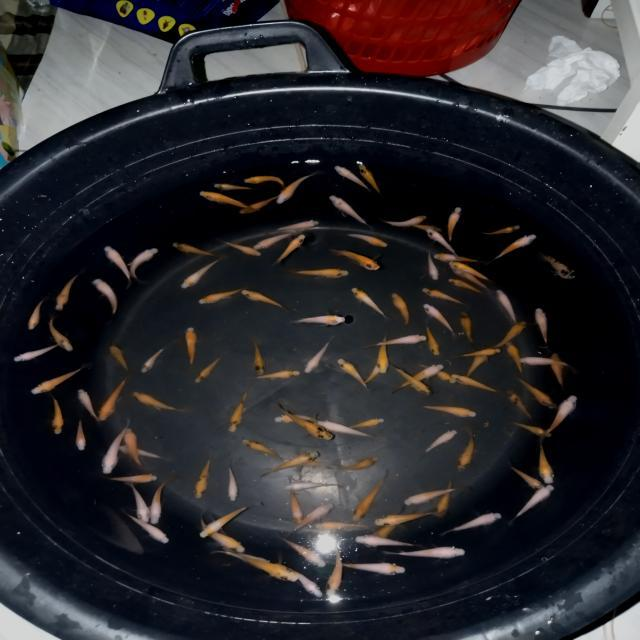nila: (114, 505, 172, 548), (236, 550, 304, 586), (505, 482, 558, 528), (363, 506, 420, 548), (192, 501, 254, 539), (248, 448, 317, 482), (349, 472, 394, 524), (278, 406, 334, 444), (27, 364, 88, 398), (540, 392, 582, 440), (391, 359, 448, 394), (508, 373, 558, 412), (283, 498, 337, 534), (197, 516, 250, 552), (279, 531, 324, 573), (92, 375, 130, 423), (327, 557, 418, 577), (434, 511, 504, 537), (100, 422, 132, 478), (389, 362, 438, 398), (400, 483, 470, 508), (276, 170, 322, 207), (328, 192, 375, 228), (535, 248, 581, 284), (130, 388, 193, 414), (492, 230, 540, 264), (8, 338, 68, 365), (348, 286, 390, 324), (310, 418, 382, 440), (90, 275, 121, 325), (206, 546, 276, 568), (286, 562, 324, 602), (238, 438, 292, 466), (180, 256, 222, 292), (52, 268, 86, 312), (329, 244, 384, 271), (196, 190, 257, 214), (489, 318, 532, 352), (532, 438, 560, 489), (416, 302, 458, 336), (503, 458, 546, 491), (190, 453, 218, 502), (453, 372, 505, 398), (225, 390, 255, 435), (148, 476, 175, 526), (494, 286, 526, 328), (415, 402, 482, 422), (352, 530, 418, 550), (446, 266, 493, 294), (322, 548, 347, 600), (126, 477, 152, 527), (332, 164, 375, 194), (130, 246, 162, 286), (362, 331, 429, 350), (302, 339, 336, 376), (272, 236, 309, 270), (100, 245, 134, 282), (453, 426, 478, 476), (242, 287, 292, 312), (450, 260, 498, 286), (388, 545, 471, 560), (332, 355, 369, 388), (503, 418, 556, 441), (419, 286, 472, 309), (332, 452, 384, 475), (504, 385, 536, 422), (192, 352, 226, 386), (371, 508, 443, 524), (138, 344, 174, 376), (236, 192, 282, 217), (49, 312, 75, 356), (420, 428, 460, 456), (114, 443, 170, 463), (122, 426, 148, 469), (426, 229, 463, 259), (532, 306, 556, 351), (192, 286, 246, 306), (550, 350, 576, 390), (515, 354, 580, 370), (388, 288, 414, 328), (246, 367, 306, 384), (358, 162, 388, 196), (45, 392, 67, 438), (170, 239, 218, 260), (280, 266, 351, 280), (358, 358, 388, 391), (282, 314, 351, 328), (466, 345, 492, 382), (245, 336, 270, 374), (378, 212, 430, 230), (417, 362, 459, 384), (27, 292, 50, 332), (458, 310, 482, 348), (106, 339, 132, 373), (104, 472, 162, 487), (344, 230, 392, 248), (284, 486, 305, 527), (313, 518, 373, 532), (432, 252, 492, 266), (220, 237, 262, 257), (78, 386, 100, 424), (444, 205, 466, 242), (452, 345, 505, 360), (265, 411, 318, 426), (504, 341, 528, 374), (253, 231, 292, 251), (437, 479, 458, 516), (345, 414, 388, 432), (183, 321, 199, 369), (375, 333, 392, 378), (242, 172, 286, 189), (447, 280, 489, 297), (224, 460, 240, 504), (422, 322, 442, 356), (285, 458, 350, 468), (208, 180, 258, 193), (283, 480, 346, 490), (74, 416, 89, 454), (406, 220, 446, 234), (480, 224, 526, 236), (276, 220, 322, 232), (425, 250, 438, 284)
